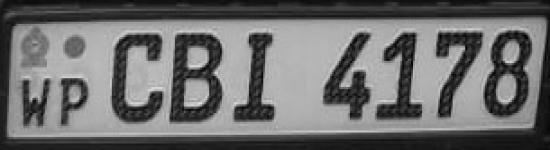1: (378, 27, 428, 125)
4: (315, 27, 376, 124)
7: (432, 23, 484, 122)
8: (482, 23, 534, 121)
B: (167, 26, 228, 129)
C: (109, 25, 166, 128)
I: (231, 27, 283, 127)
P: (59, 74, 94, 132)
W: (19, 73, 55, 132)
